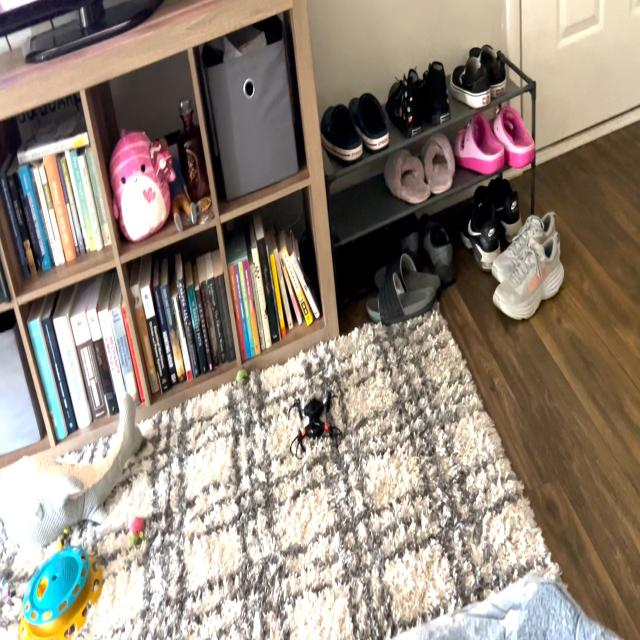drone: (276, 383, 348, 470)
